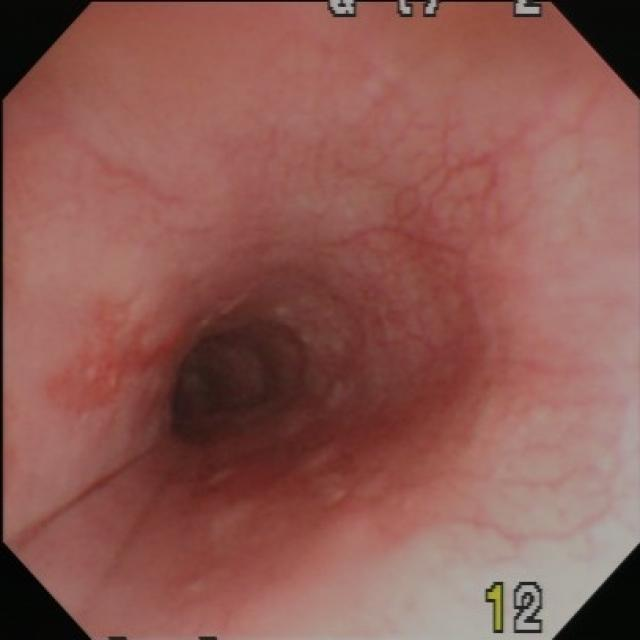A: (305, 227, 493, 516)
D: (45, 304, 169, 415)
E: (174, 323, 303, 446)
S: (485, 581, 547, 636), (325, 3, 545, 18)
